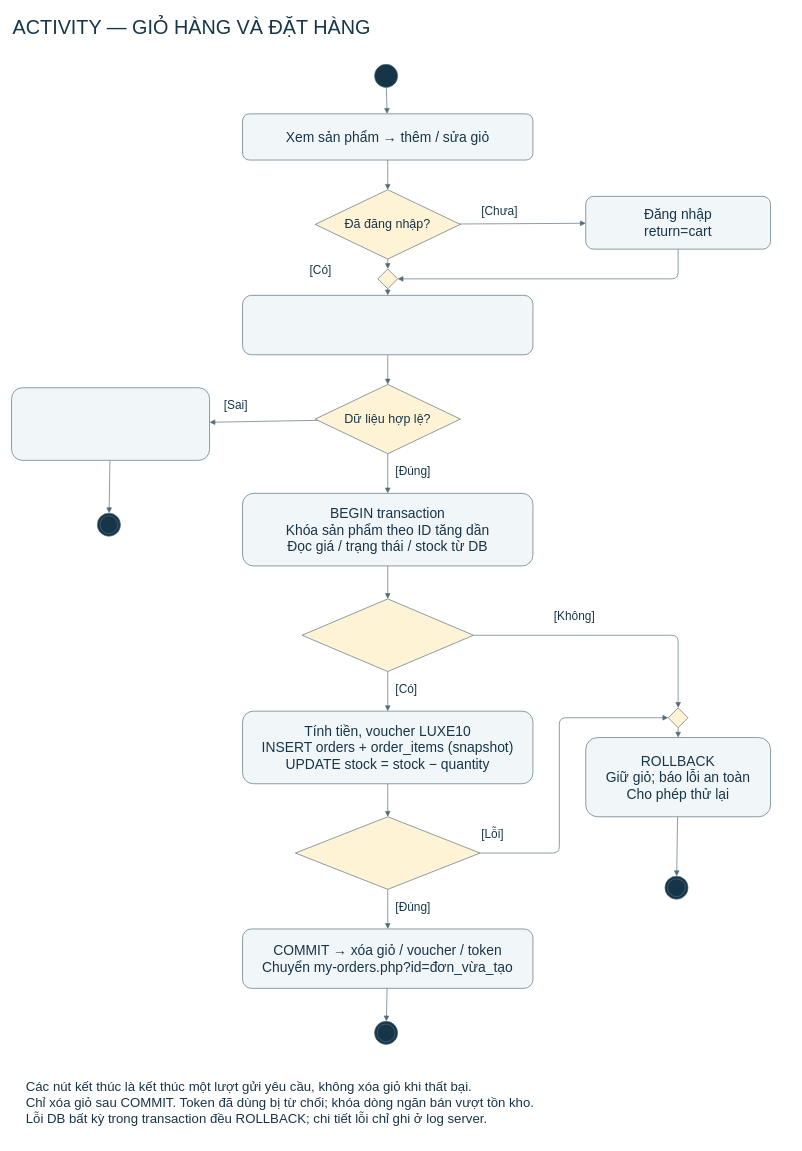
Some shapes in this 802 by 1151 pixel diagram are drawn without their labels. The box of each missing label's shape, as (x1, y1, x2, y2) in pixels:
Báo lỗi gần ô nhập Giữ thông tin và giỏ Khách sửa rồi gửi lại: (11, 387, 210, 460)
Ghi dữ liệu thành công?: (295, 816, 480, 889)
Nhập giao nhận, chọn COD / chuyển khoản Gửi POST + CSRF + checkout_token: (242, 295, 533, 355)
Được bán & đủ kho?: (301, 598, 474, 672)
